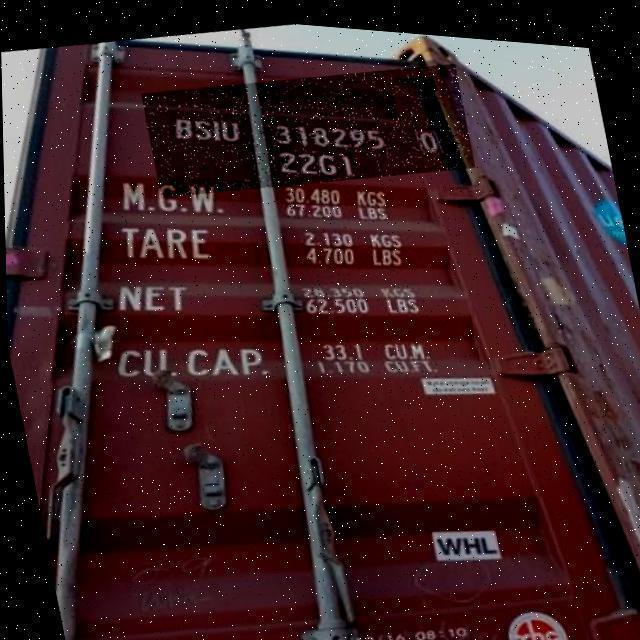ISO: (278, 154, 362, 178)
container_number: (184, 121, 440, 148)
